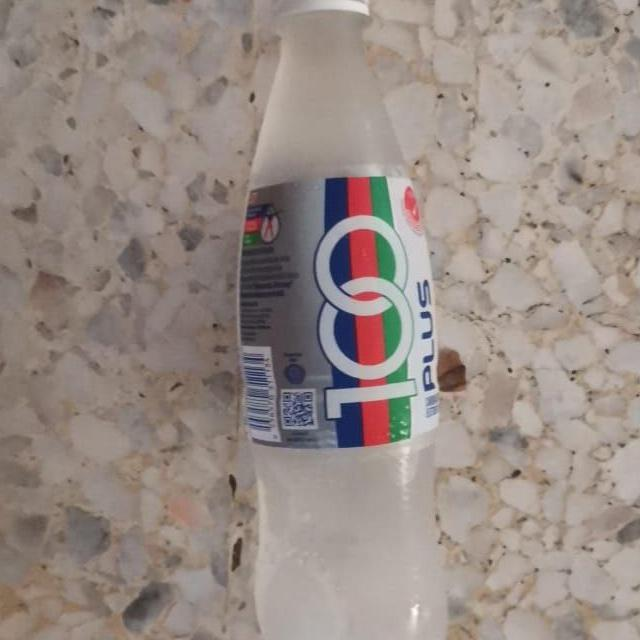plastic: (231, 0, 447, 640)
